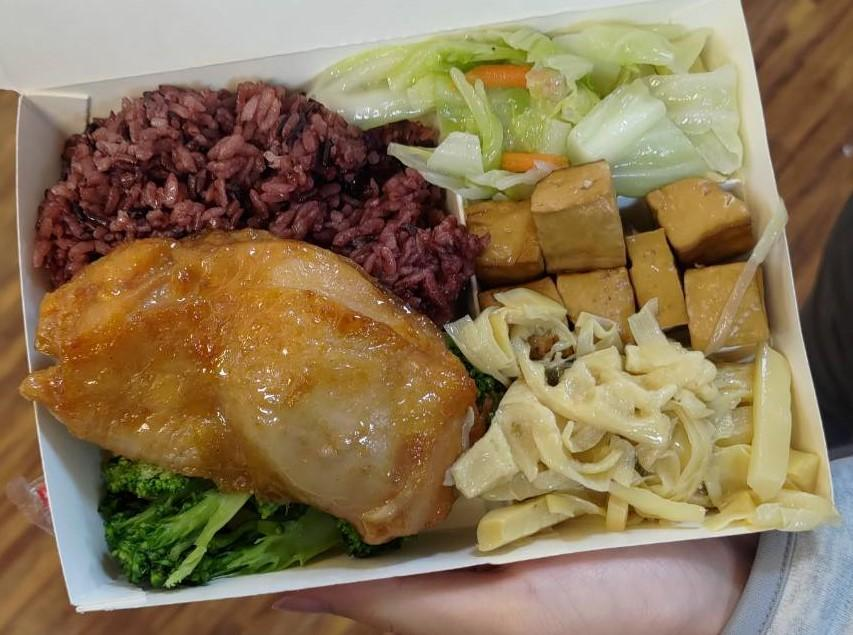big grilled chicken leg: (0, 0, 851, 618)
braised fish: (25, 77, 474, 324)
braised fish fillet: (465, 327, 810, 548), (310, 17, 742, 190), (452, 170, 776, 354), (95, 455, 351, 586)
braised pork: (30, 227, 480, 546)
